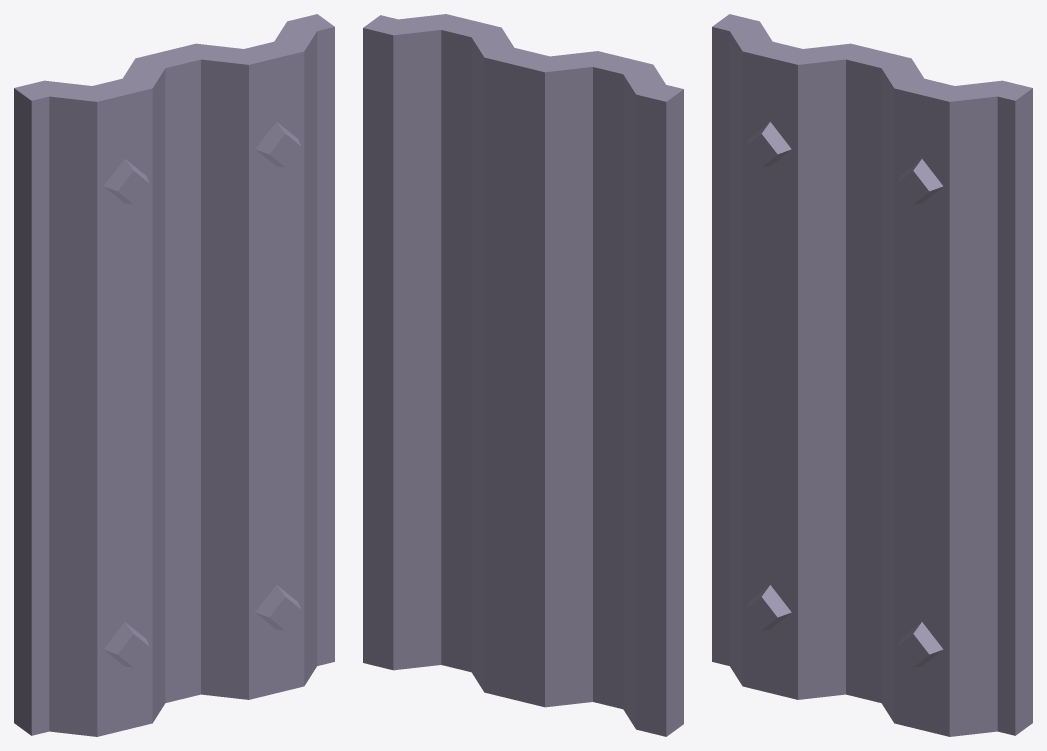
Rendered from metal-panel-screws-narrow.obj.
3 renders of one model, left to right at view 1: azimuth 30°, elevation 25°; view 2: azimuth 150°, elevation 25°; view 3: azimuth 330°, elevation 25°, orthographic.
Bounding box in the file's own units: 0.25 × 0.5 × 0.0625.
